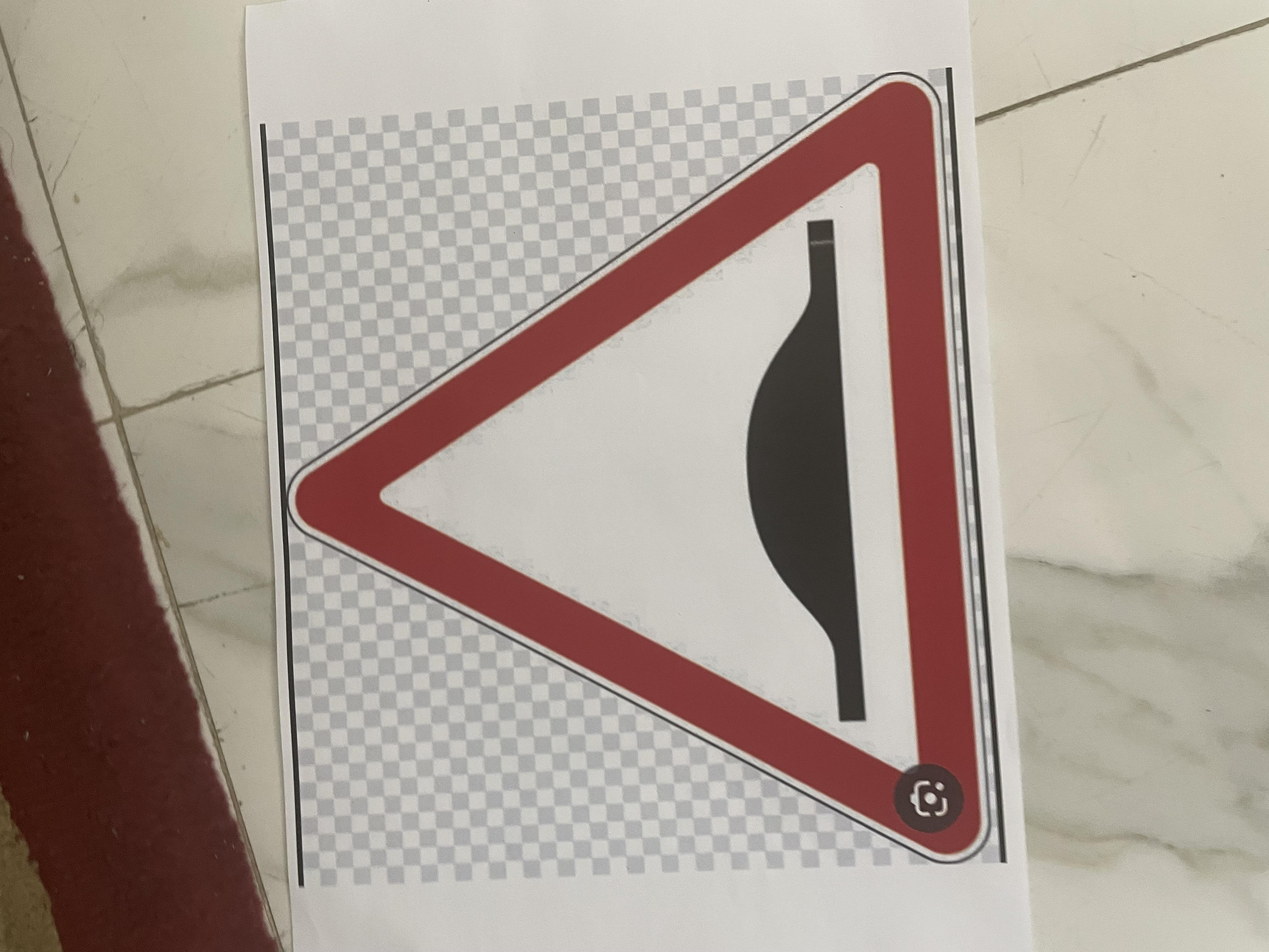Hump: (100, 208, 1188, 751)
